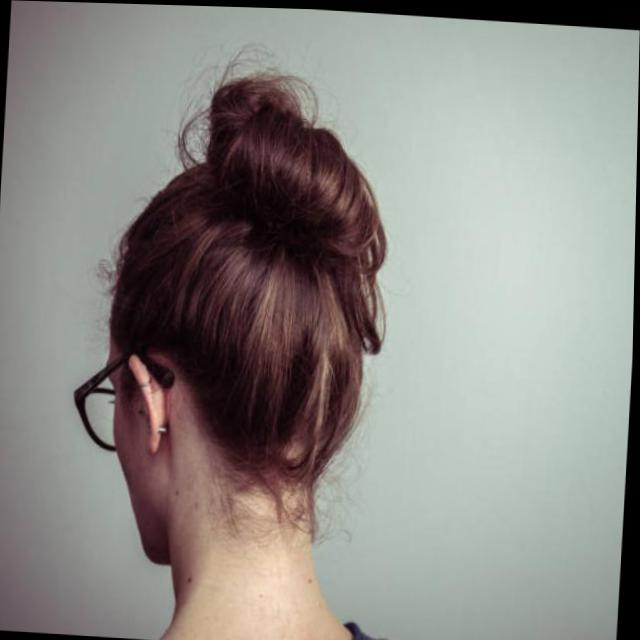no helmet: (110, 76, 387, 544)
